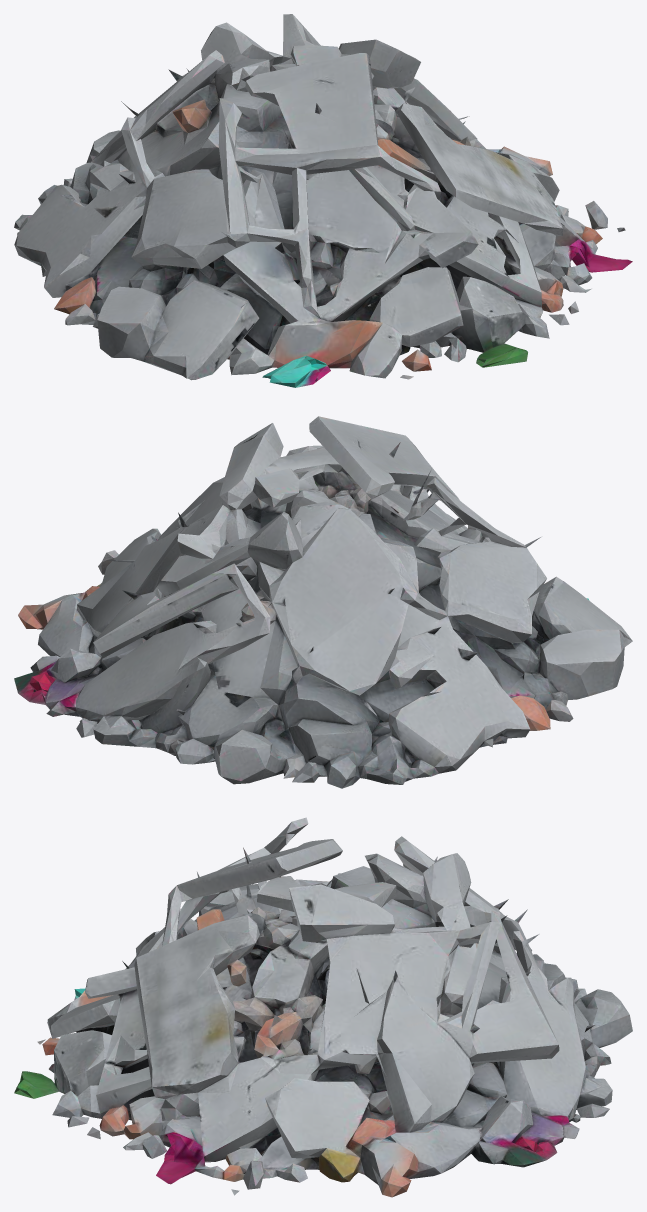
The model's file is rubble_pile.glb.
3 views of the same model, one above another, from view 1: azimuth 30°, elevation 25°; view 2: azimuth 150°, elevation 25°; view 3: azimuth 270°, elevation 25° (orthographic).
Visible parts, largest first — view 1: Mesh; view 2: Mesh; view 3: Mesh.
Boxes of the visible parts, bbox=[...] form: Mesh: bbox=[14, 14, 632, 387]; Mesh: bbox=[14, 416, 632, 788]; Mesh: bbox=[14, 817, 632, 1197].
Size of the model in its own units: 6 by 2.42 by 6.11.
Materials: 1 (1 with a texture image).
